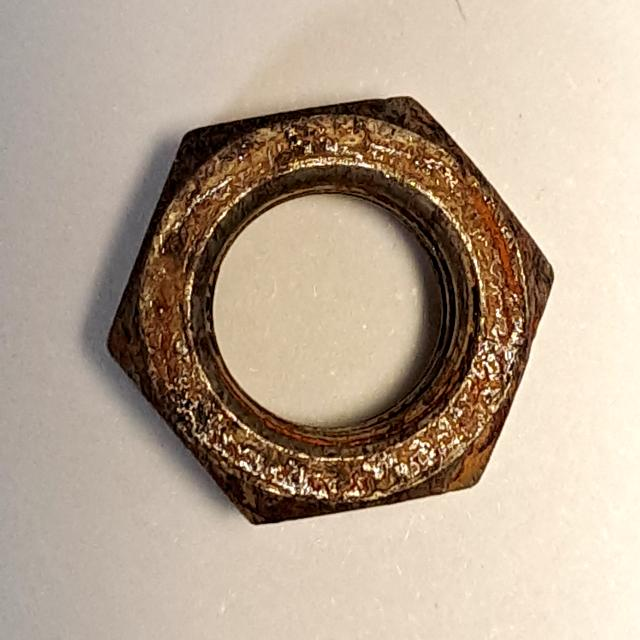Rust: (92, 77, 566, 538)
